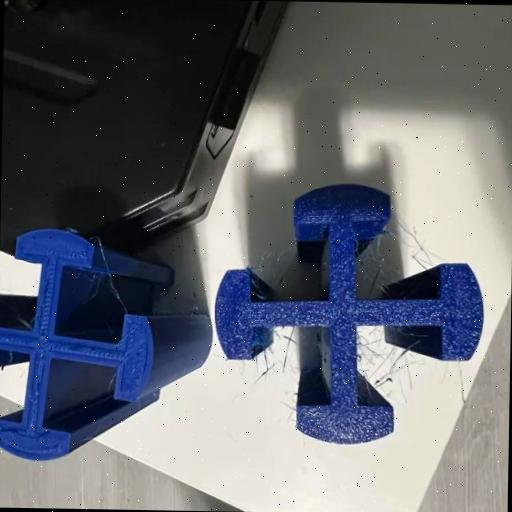stringing: (370, 330, 431, 389), (386, 218, 436, 269), (362, 256, 393, 284), (359, 334, 382, 366), (279, 332, 297, 360), (256, 353, 278, 373)
